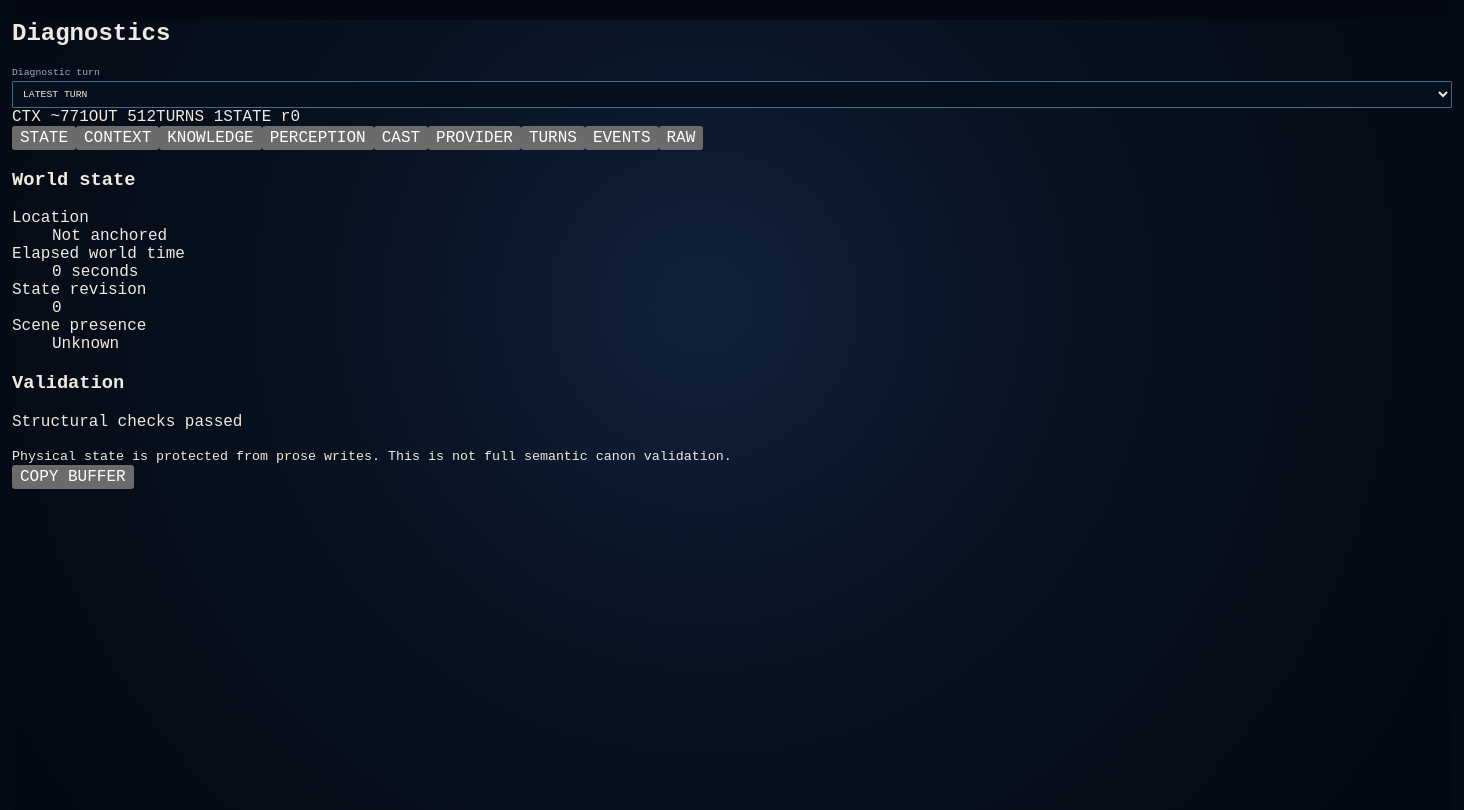
V2 observability and display controls › records safe provider metadata and exposes the expanded inspector tabs
Expected: the tab "state" is shown, [12, 126, 76, 150]
Expected: the tab "context" is shown, [76, 126, 159, 150]
Click the tab "provider" at (474, 138), box [428, 126, 521, 150]
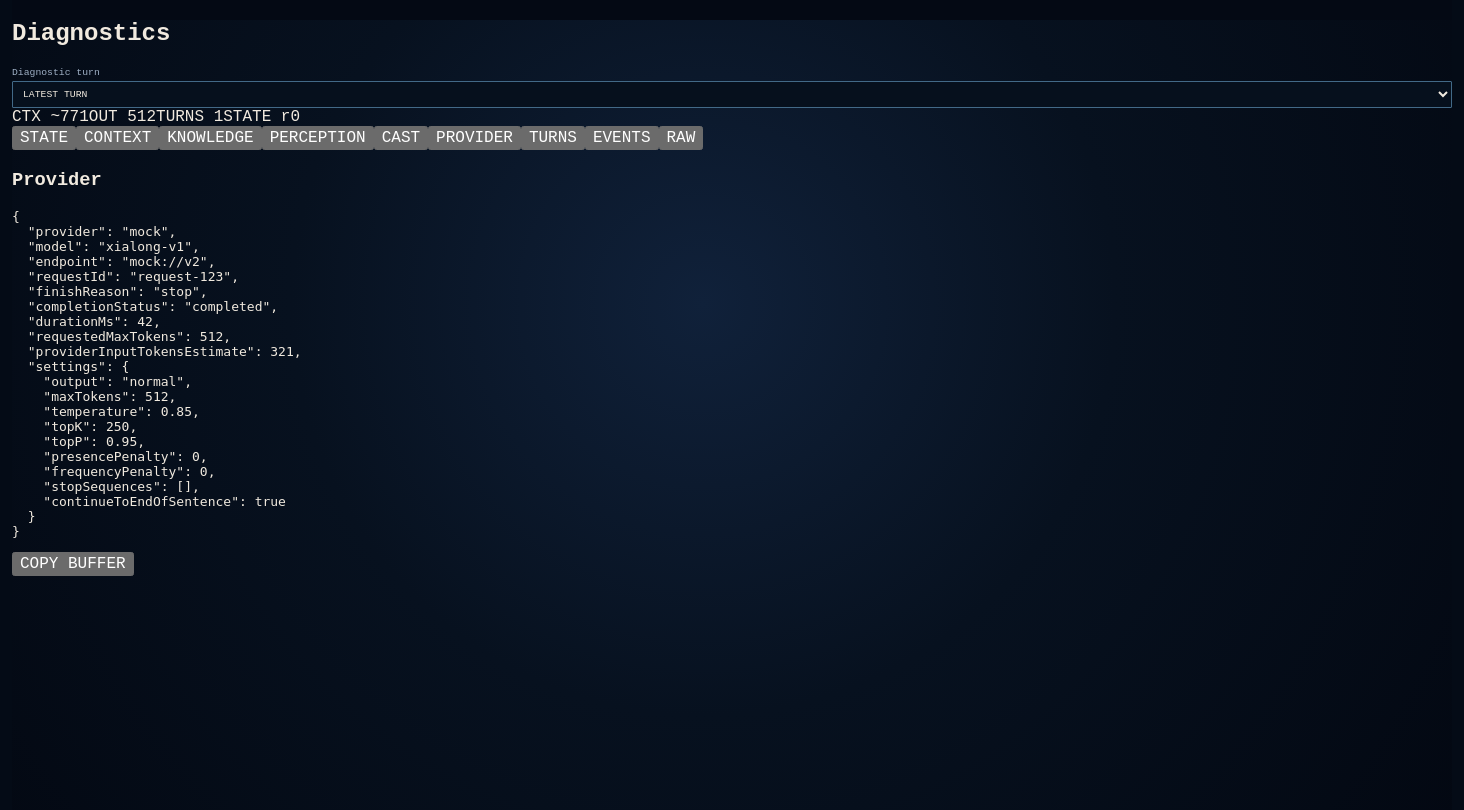
Now the text "mock://v2" is shown, box [12, 209, 302, 539]
